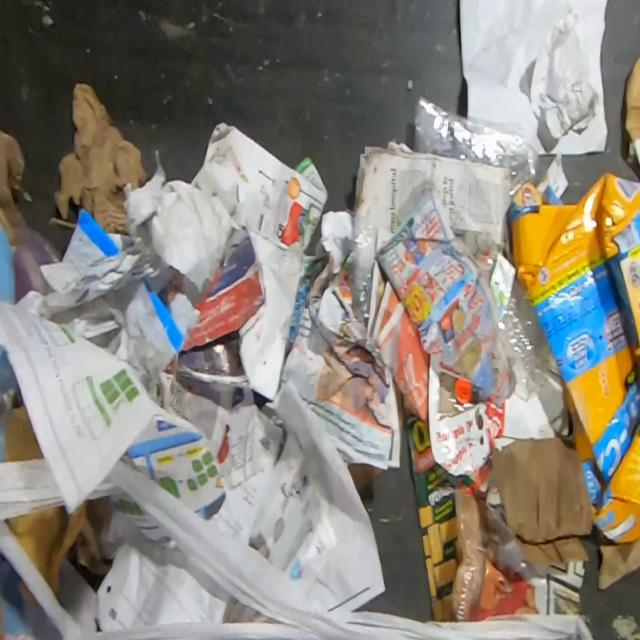cardboard: (504, 168, 640, 590), (52, 81, 149, 234), (486, 434, 594, 564), (166, 234, 266, 352), (6, 500, 88, 604), (3, 403, 44, 461)
rigid_plastic: (479, 247, 553, 402)
soft_plastic: (412, 92, 538, 196), (349, 223, 376, 327)
